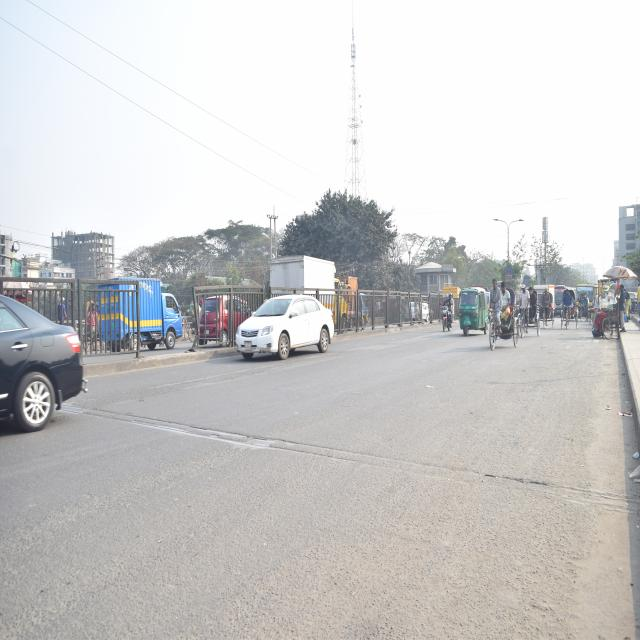car: (0, 282, 82, 444), (234, 297, 333, 359)
microbus: (200, 293, 246, 336)
motorbike: (439, 297, 456, 339)
pickup-van: (95, 272, 184, 354), (266, 247, 351, 327)
